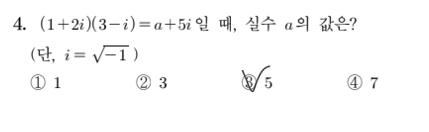1: (239, 66, 263, 93)
paper: (344, 72, 364, 92), (239, 72, 259, 92), (132, 72, 152, 92), (27, 72, 47, 92)
